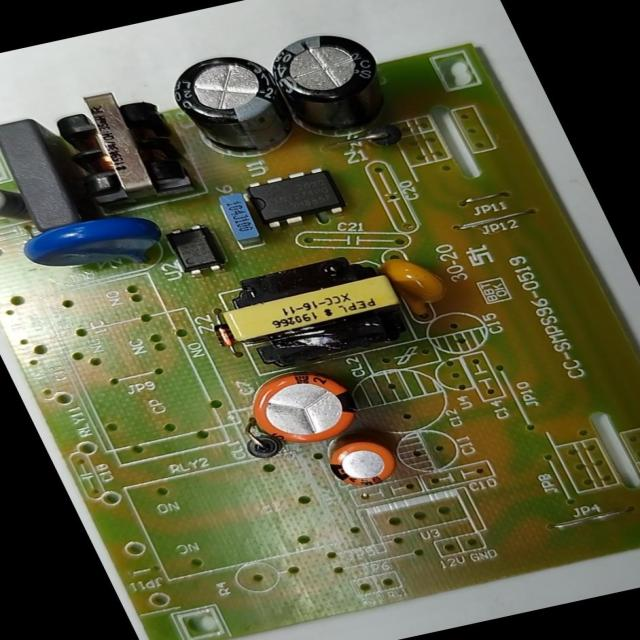Cap1: (226, 359, 376, 455)
Cap2: (312, 424, 415, 493)
Cap3: (154, 44, 311, 167)
Cap4: (248, 22, 412, 153)
MOSFET: (224, 158, 358, 238)
Mov: (10, 199, 191, 291)
Resistor: (0, 176, 33, 231)
Transformer: (200, 244, 439, 386), (41, 75, 212, 216)
